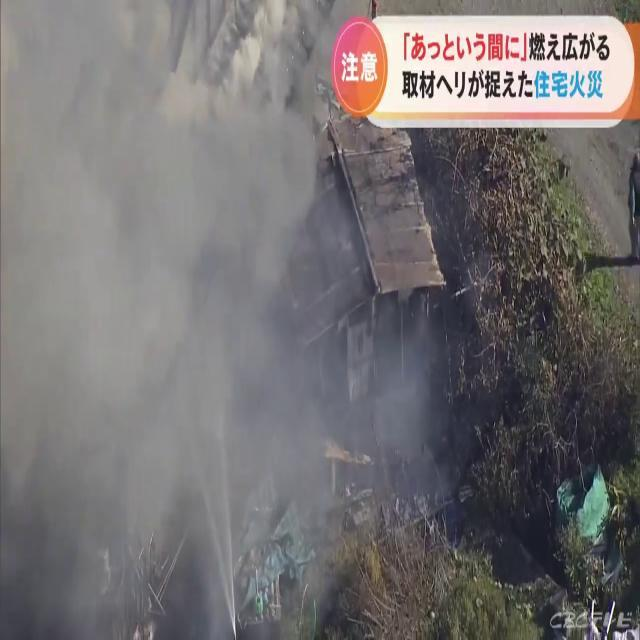Smoke: (1, 17, 446, 620)
